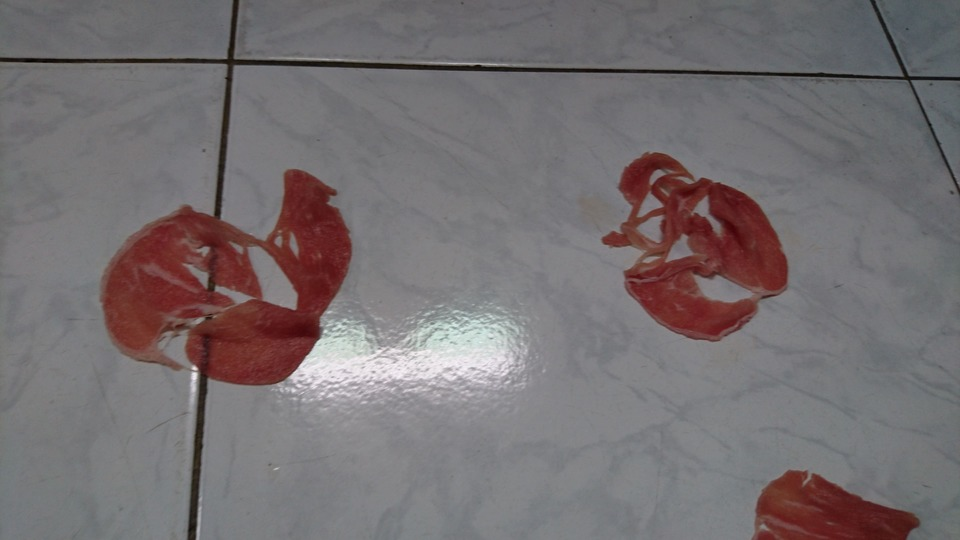restructured meat: (101, 166, 354, 388), (598, 146, 787, 340)
